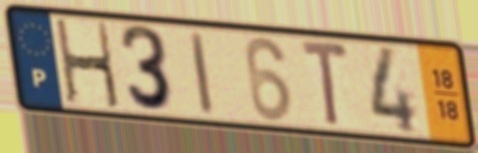3: (118, 23, 177, 115)
4: (366, 43, 423, 137)
6: (240, 34, 298, 125)
H: (52, 16, 124, 112)
I: (187, 29, 217, 119)
T: (298, 35, 352, 130)
